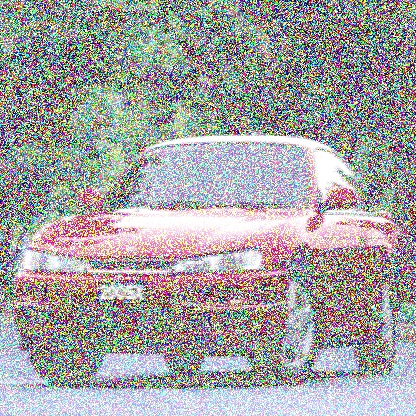Vehicle: (11, 139, 404, 381)
